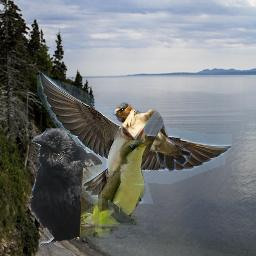Crow: (27, 127, 102, 246)
Cuckoo: (70, 137, 157, 239)
Swallow: (37, 70, 232, 204), (112, 102, 192, 172)
